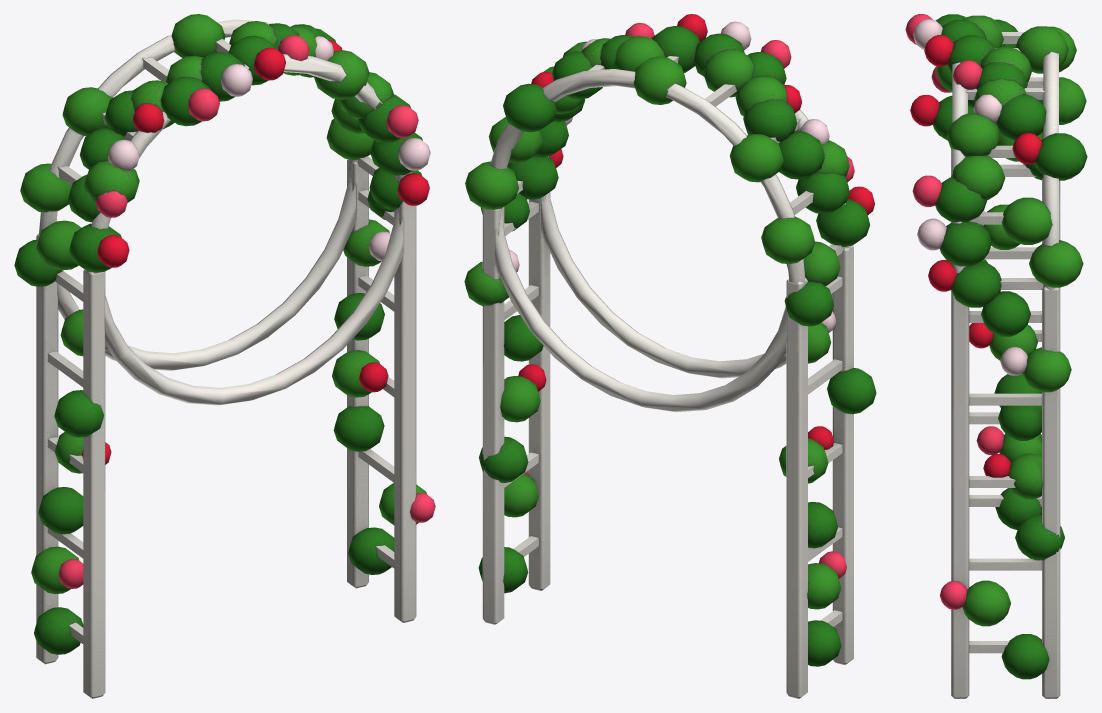
File: flower_arch.glb
3 renders of one model, left to right at view 1: azimuth 30°, elevation 25°; view 2: azimuth 150°, elevation 25°; view 3: azimuth 270°, elevation 25°, orthographic. The views are drawn at different scales.
Visible parts, largest first — view 1: flower_arch; view 2: flower_arch; view 3: flower_arch.
Boxes of the visible parts, x1,y1,x2,y2 form: flower_arch: [14, 14, 435, 698]; flower_arch: [464, 14, 876, 698]; flower_arch: [905, 14, 1087, 698].
Size of the model in its own units: 0.9237 by 1.43 by 0.4.
Materials: 1 (1 with a texture image).
